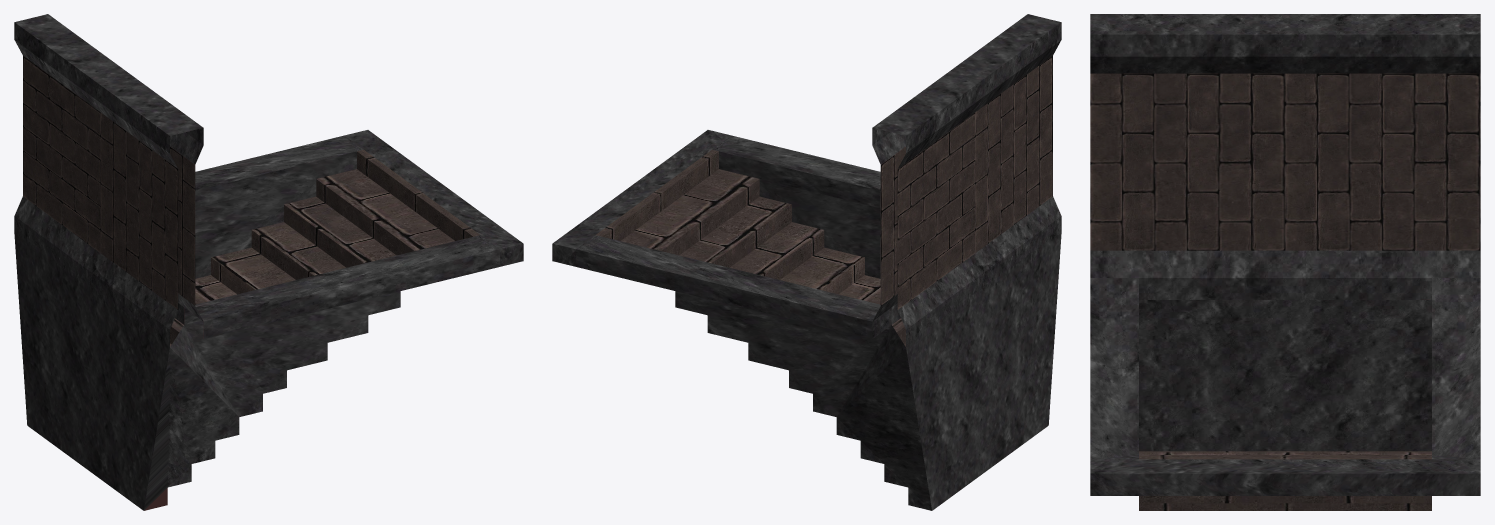
The model's file is Bk_StairsDown.glb.
3 views of the same model, side by side, from view 1: azimuth 30°, elevation 25°; view 2: azimuth 150°, elevation 25°; view 3: azimuth 270°, elevation 25° (orthographic). The views are drawn at different scales.
Parts seen in each view (by area): view 1: Bk_StairsDown; view 2: Bk_StairsDown; view 3: Bk_StairsDown.
Part boxes in pixels (x1,y1,x2,y2): Bk_StairsDown: (14, 14, 523, 510); Bk_StairsDown: (552, 14, 1061, 510); Bk_StairsDown: (1090, 14, 1480, 510).
Size of the model in its own units: 5.35 by 5.5 by 4.
1 material, 1 textured.
